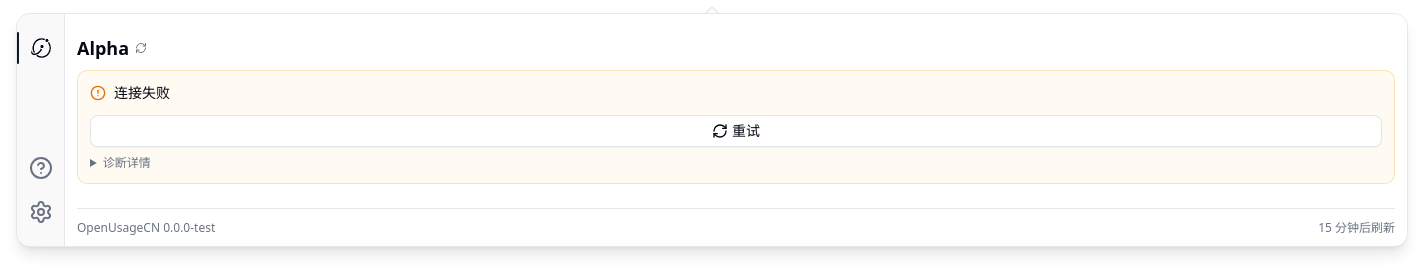
Test: App › tracks manual refresh and clears cooldown flag on result
Click the button named "刷新".
click(141, 48)  # box [129,36,153,60]
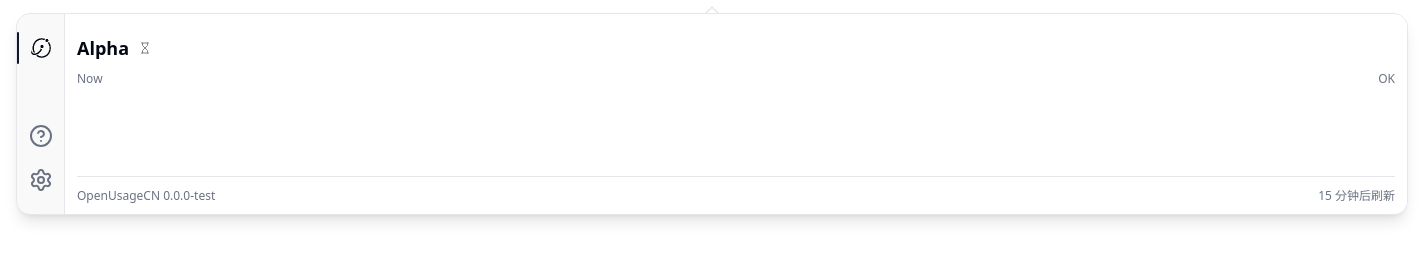
Expected: the text "Now" is shown, [77,70,103,87]
